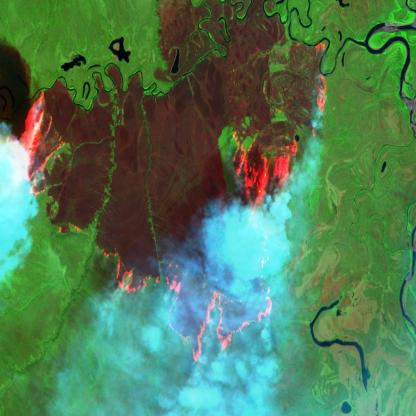fire: (14, 35, 329, 370)
